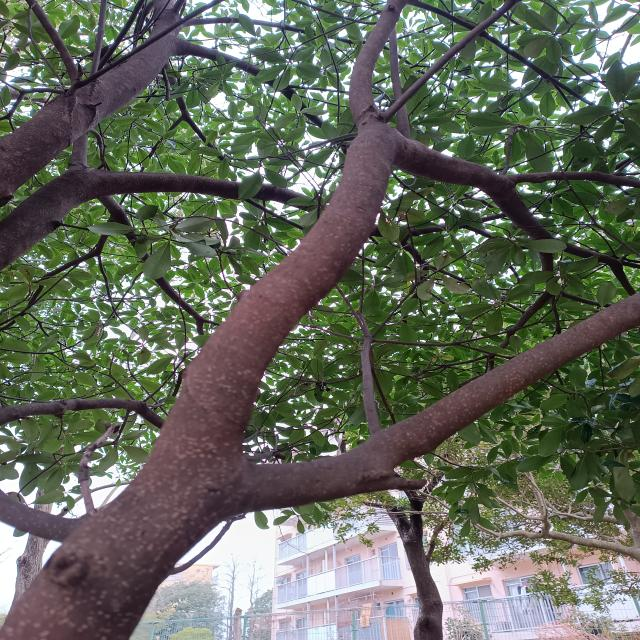Branch: (156, 122, 547, 453), (211, 294, 640, 522), (0, 0, 184, 208)
Twig: (0, 167, 315, 268), (409, 0, 592, 105), (383, 0, 521, 119), (178, 38, 327, 129), (23, 218, 114, 315), (350, 0, 411, 125), (133, 247, 208, 323), (547, 232, 635, 294), (0, 398, 164, 428), (25, 0, 82, 85), (488, 292, 554, 358), (187, 17, 354, 43), (0, 489, 76, 543), (99, 194, 143, 246), (507, 171, 640, 188), (362, 334, 383, 435), (562, 289, 609, 307), (540, 243, 556, 289), (72, 134, 88, 167), (388, 479, 426, 491), (171, 0, 186, 15)
